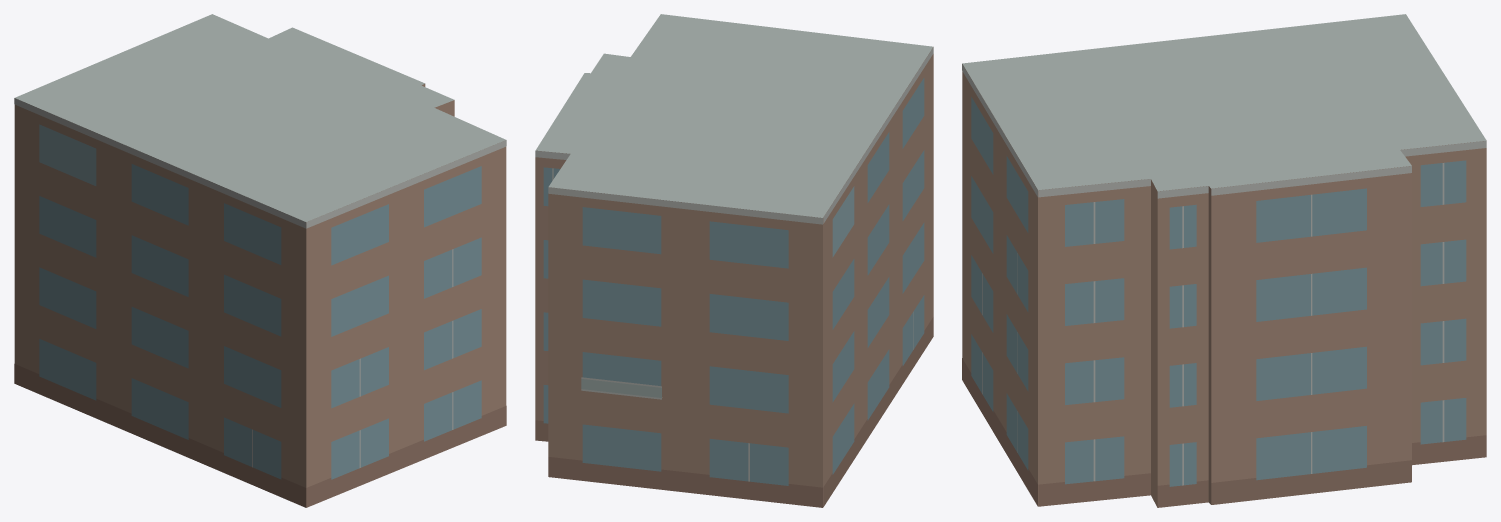
Rendered from survey-upis-32713733.glb.
The picture shows the model from 3 angles, left to right: view 1: azimuth 30°, elevation 25°; view 2: azimuth 150°, elevation 25°; view 3: azimuth 270°, elevation 25°; orthographic projection. The views are drawn at different scales.
Visible parts, largest first — view 1: survey-upis-32713733.tmp; view 2: survey-upis-32713733.tmp; view 3: survey-upis-32713733.tmp.
Part boxes in pixels (x1,y1,x2,y2): survey-upis-32713733.tmp: (14, 14, 506, 507); survey-upis-32713733.tmp: (535, 14, 933, 507); survey-upis-32713733.tmp: (962, 14, 1486, 507).
Bounding box in the file's own units: 12.81 × 10.65 × 16.01.
